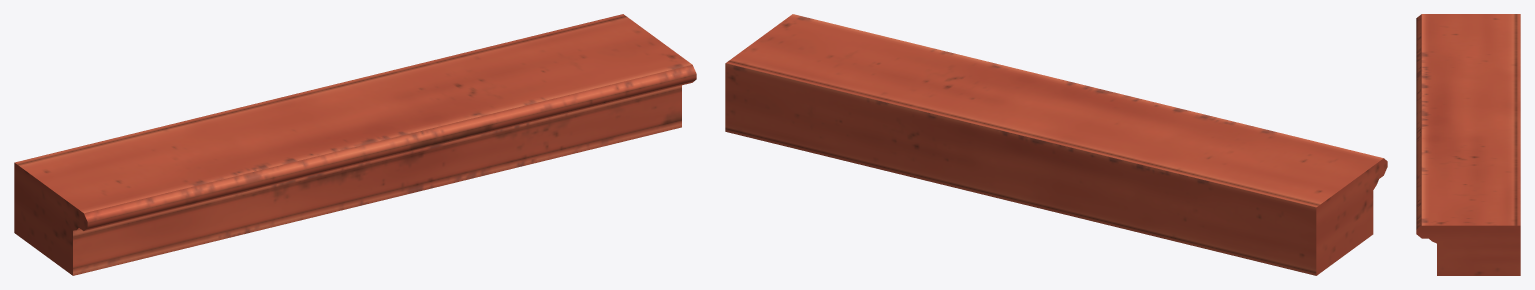
File: MSH_Stair_01.FBX
The picture shows the model from 3 angles, left to right: view 1: azimuth 30°, elevation 25°; view 2: azimuth 150°, elevation 25°; view 3: azimuth 270°, elevation 25°; orthographic projection. The views are drawn at different scales.
Parts seen in each view (by area): view 1: MSH_Stair_01; view 2: MSH_Stair_01; view 3: MSH_Stair_01.
Boxes of the visible parts, x1,y1,x2,y2 form: MSH_Stair_01: (14, 14, 696, 275); MSH_Stair_01: (725, 14, 1387, 275); MSH_Stair_01: (1416, 14, 1520, 275).
Size of what is drawn, in the model's own units: 180 by 37.48 by 19.93.
